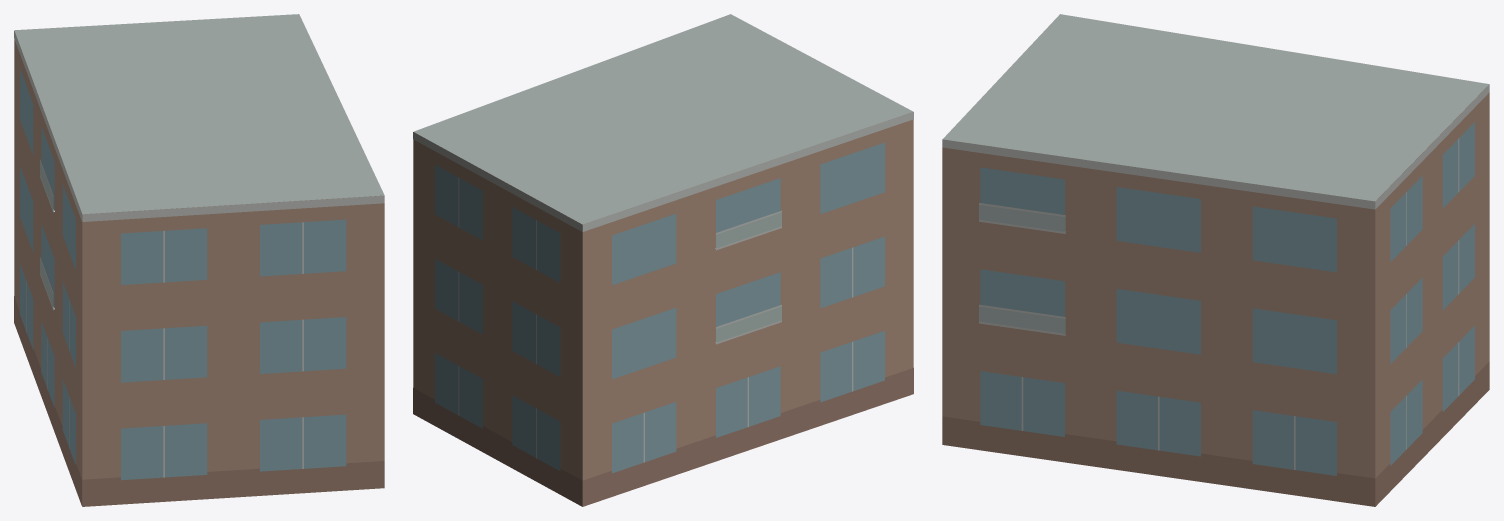
The model's file is survey-upis-32720685.glb.
The picture shows the model from 3 angles, left to right: view 1: azimuth 30°, elevation 25°; view 2: azimuth 150°, elevation 25°; view 3: azimuth 270°, elevation 25°; orthographic projection. The views are drawn at different scales.
Visible parts, largest first — view 1: survey-upis-32720685.tmp; view 2: survey-upis-32720685.tmp; view 3: survey-upis-32720685.tmp.
Part boxes in pixels (x1,y1,x2,y2): survey-upis-32720685.tmp: [14, 14, 384, 506]; survey-upis-32720685.tmp: [413, 14, 913, 506]; survey-upis-32720685.tmp: [942, 14, 1489, 506].
Bounding box in the file's own units: 12.05 × 9.15 × 14.86.
